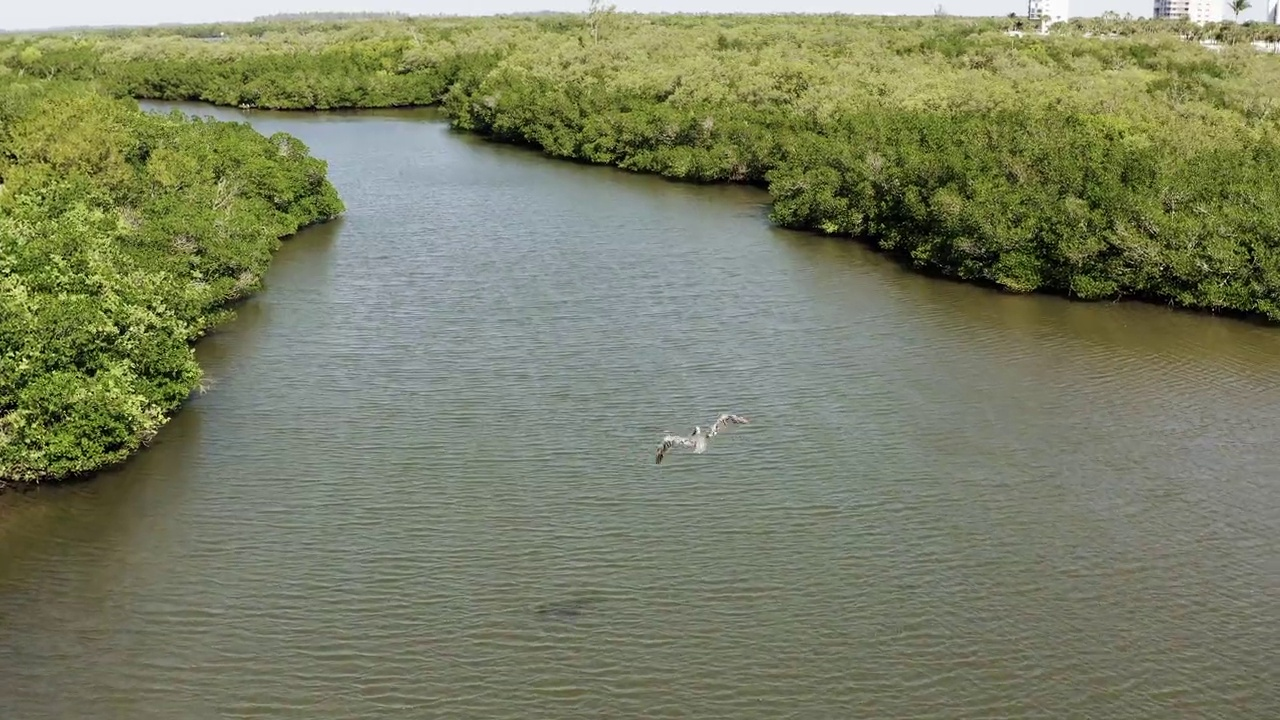bird: (655, 411, 747, 464)
